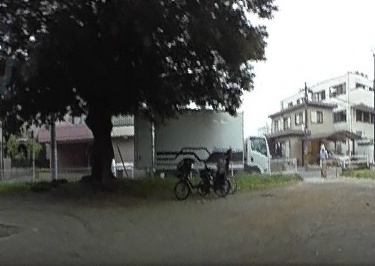person: (316, 143, 330, 179)
